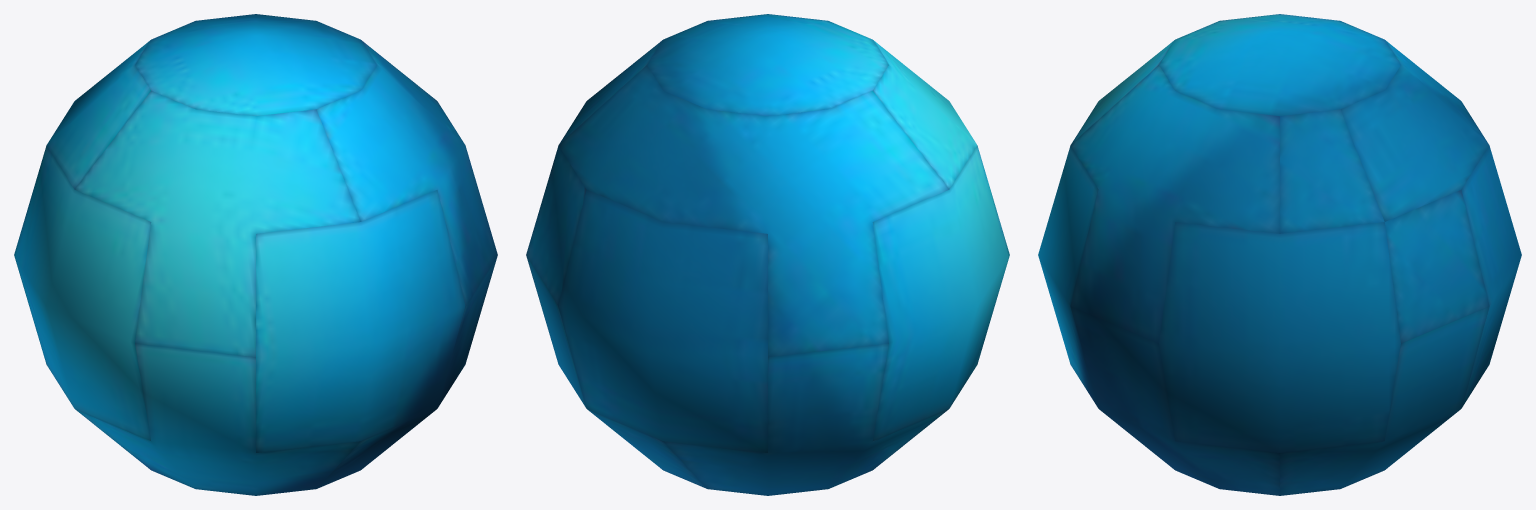
File: barrelGripOff.obj
The picture shows the model from 3 angles, left to right: view 1: azimuth 30°, elevation 25°; view 2: azimuth 150°, elevation 25°; view 3: azimuth 270°, elevation 25°; orthographic projection.
Visible parts, largest first — view 1: Sphere002; view 2: Sphere002; view 3: Sphere002.
Part boxes in pixels (x1,y1,x2,y2): Sphere002: (14,14,497,495); Sphere002: (526,14,1009,495); Sphere002: (1038,14,1521,495).
Size of the model in its own units: 24 by 24 by 24.
1 material, 1 textured.
